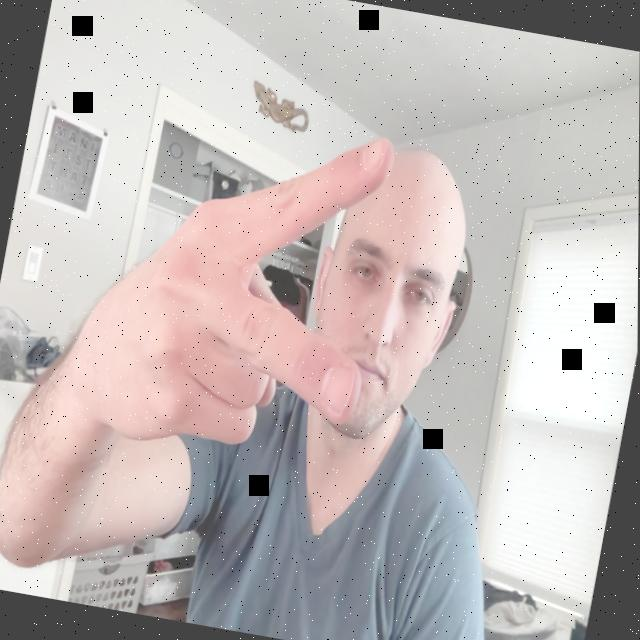Scissors: (61, 89, 407, 484)
